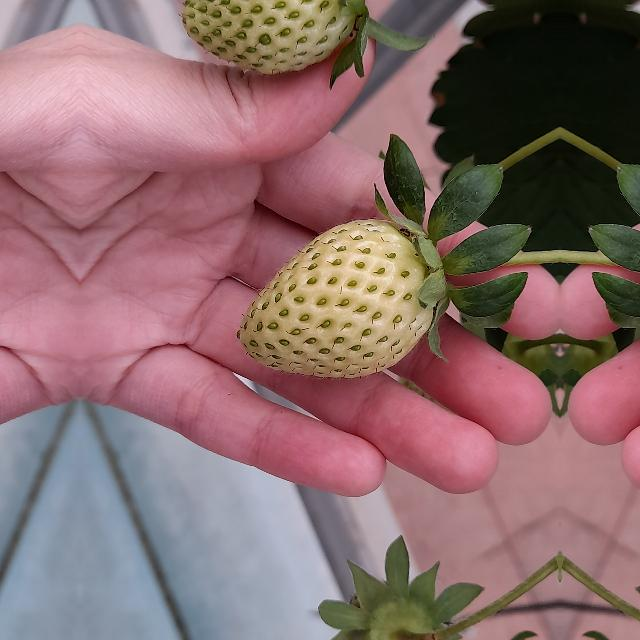Health_25: (236, 218, 432, 378), (180, 0, 370, 76)
